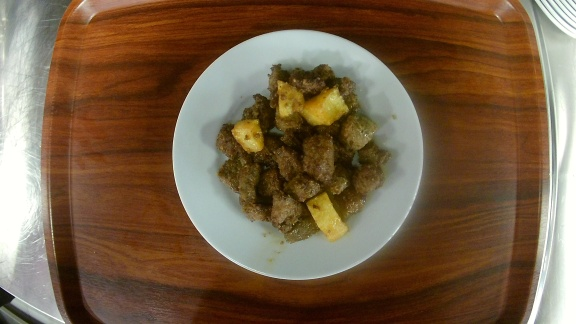arnavutcigeri: (170, 27, 423, 281)
